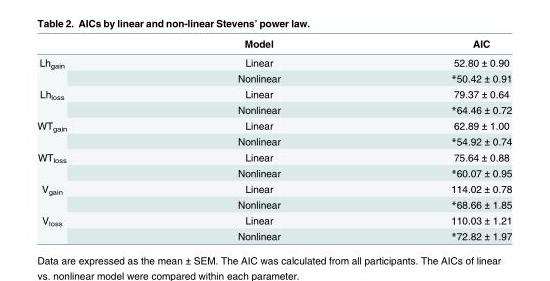table: (36, 37, 511, 241)
table column: (151, 37, 364, 241), (364, 37, 511, 241), (36, 37, 151, 241)
table column header: (36, 37, 511, 52)
table row: (36, 52, 511, 69), (36, 69, 511, 85), (36, 85, 511, 101), (36, 101, 511, 117), (36, 117, 511, 133), (36, 133, 511, 149), (36, 164, 511, 180), (36, 180, 511, 196), (36, 196, 511, 212), (36, 37, 511, 52), (36, 149, 511, 164), (36, 212, 511, 227), (36, 227, 511, 241)
table spanning cell: (36, 52, 151, 85), (36, 85, 151, 117), (36, 117, 151, 149), (36, 180, 151, 212), (36, 149, 151, 180), (36, 212, 151, 241)
